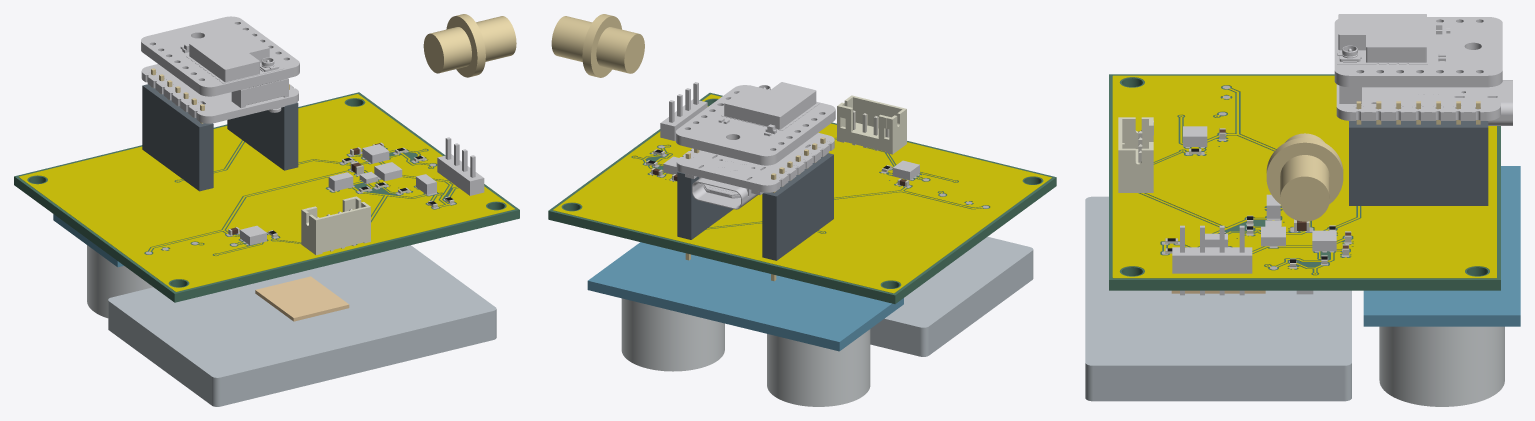
The model's file is electronics-stack.glb.
3 renders of one model, left to right at view 1: azimuth 30°, elevation 25°; view 2: azimuth 150°, elevation 25°; view 3: azimuth 270°, elevation 25°, orthographic. The views are drawn at different scales.
Parts seen in each view (by area): view 1: electronics_stack (×12); view 2: electronics_stack (×10); view 3: electronics_stack (×11).
Part boxes in pixels (left/top/right/bottom): electronics_stack (×12): left=14, top=14, right=519, bottom=406; electronics_stack (×10): left=548, top=14, right=1056, bottom=406; electronics_stack (×11): left=1085, top=14, right=1520, bottom=406.
Size of the model in its own units: 0.074 by 0.0444 by 0.0555.
